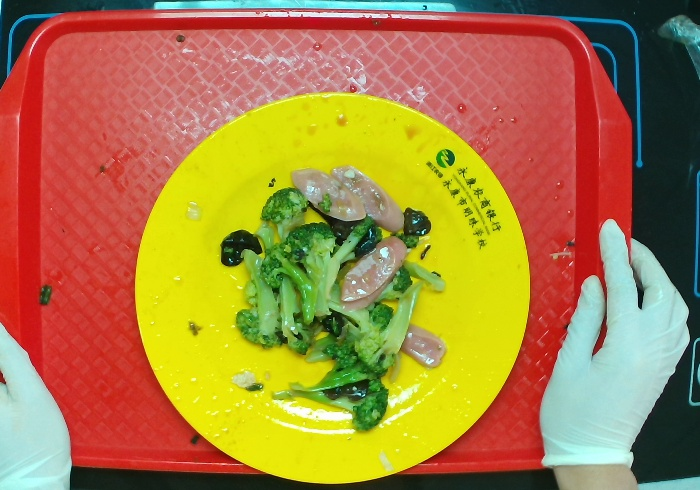YKMZ-Huang_Se_Mian_Pan: (132, 92, 532, 490)
